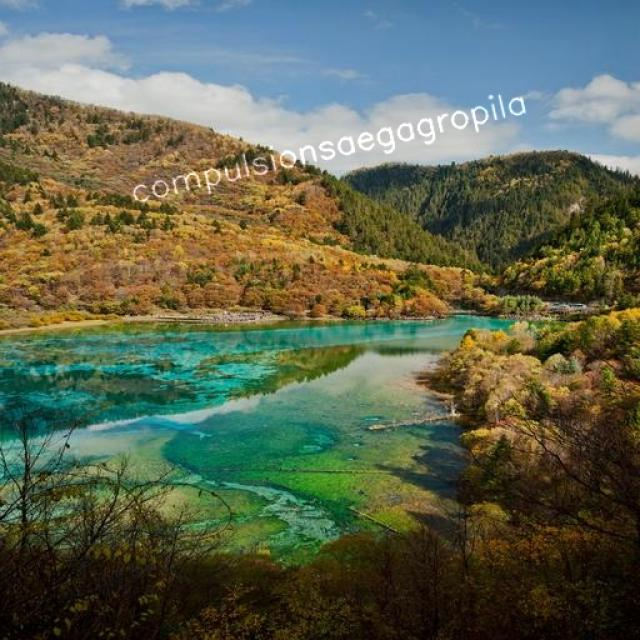watermark: (124, 86, 528, 208)
